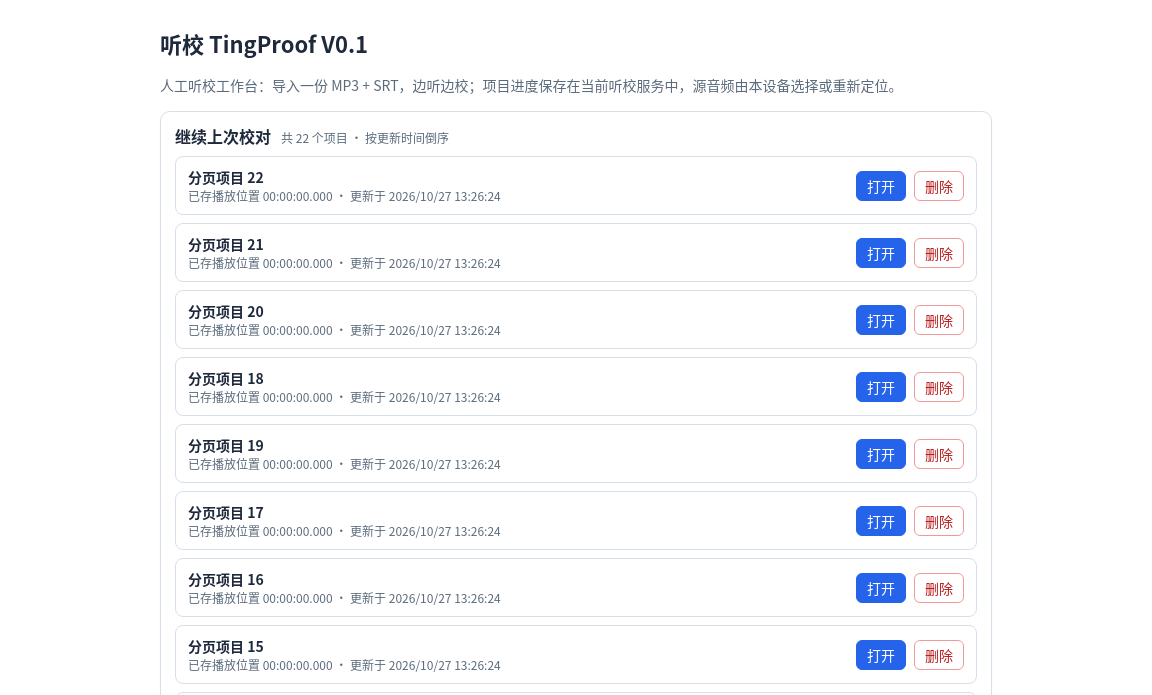
Test: ImportScreen 删除历史记录（AC-066） › 超过 20 条的分页边界：删除后剩余计数正确、不为负、无幽灵目标；加载更多后不重复
Note: 删除一个可见条目（最新的 22 号）。
Click the button with aria-label "删除 分页项目 22" at (939, 186), box x1=914 y1=170 x2=964 y2=200
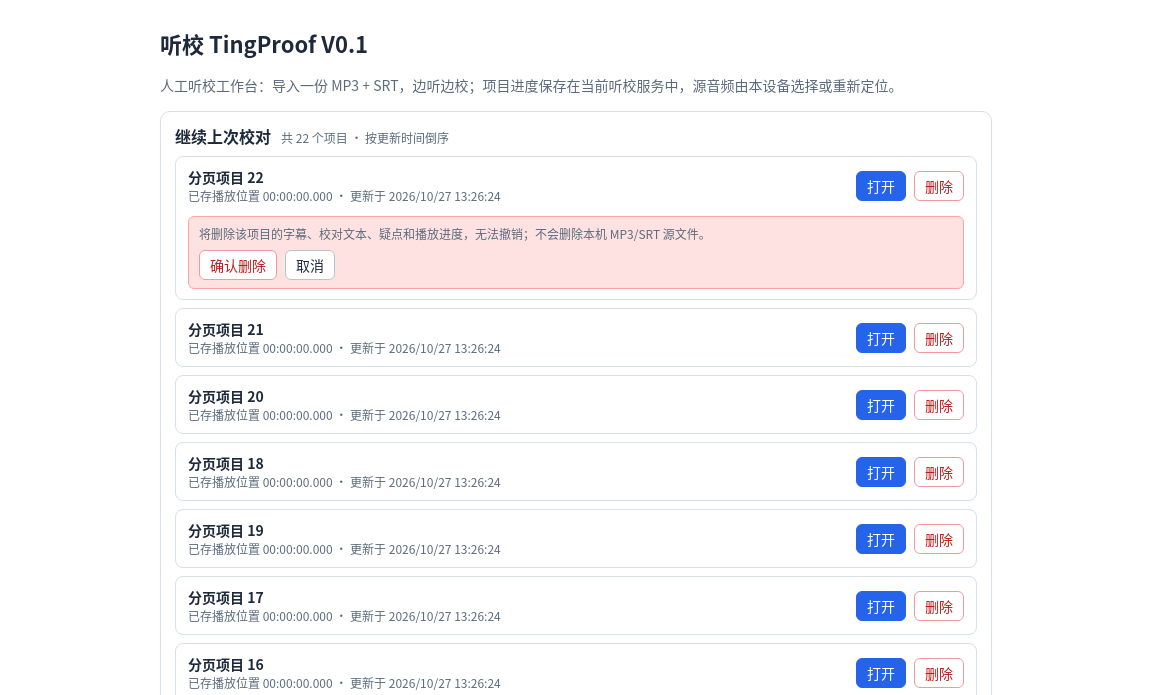
Click the button with aria-label "确认删除 分页项目 22" at (238, 265), box x1=199 y1=250 x2=277 y2=280
(page scrolled)
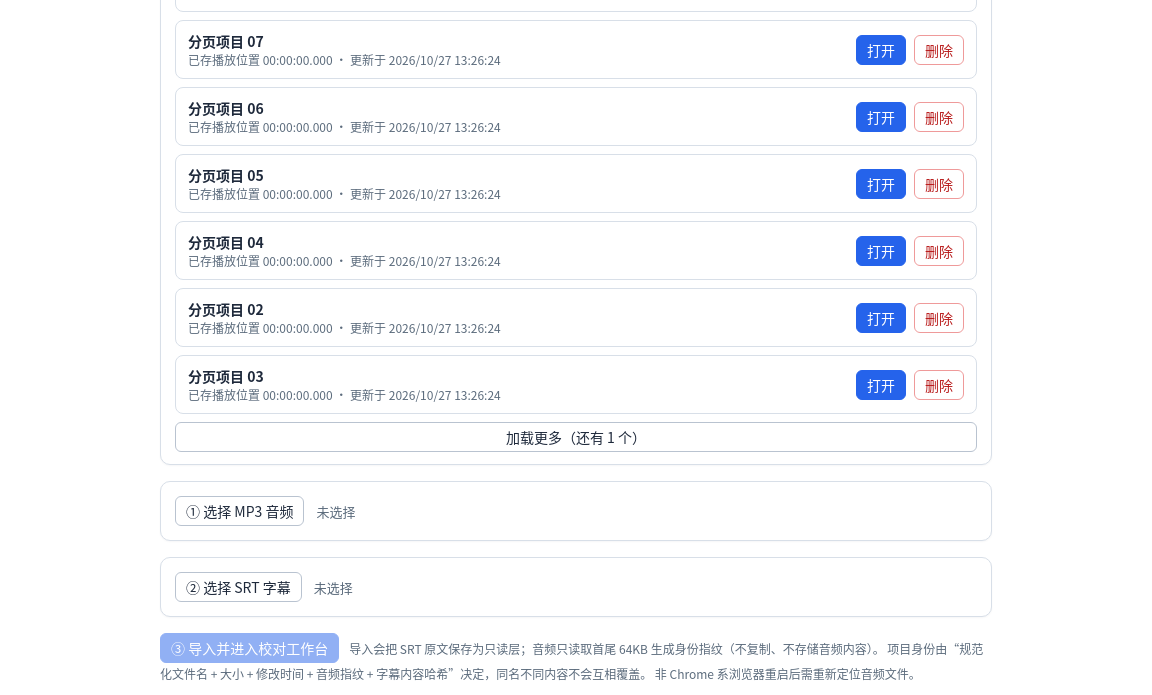
Expected: the button "加载更多（还有 1 个）" is shown
Click the button "加载更多（还有 1 个）" at (576, 437), box x1=175 y1=422 x2=977 y2=452
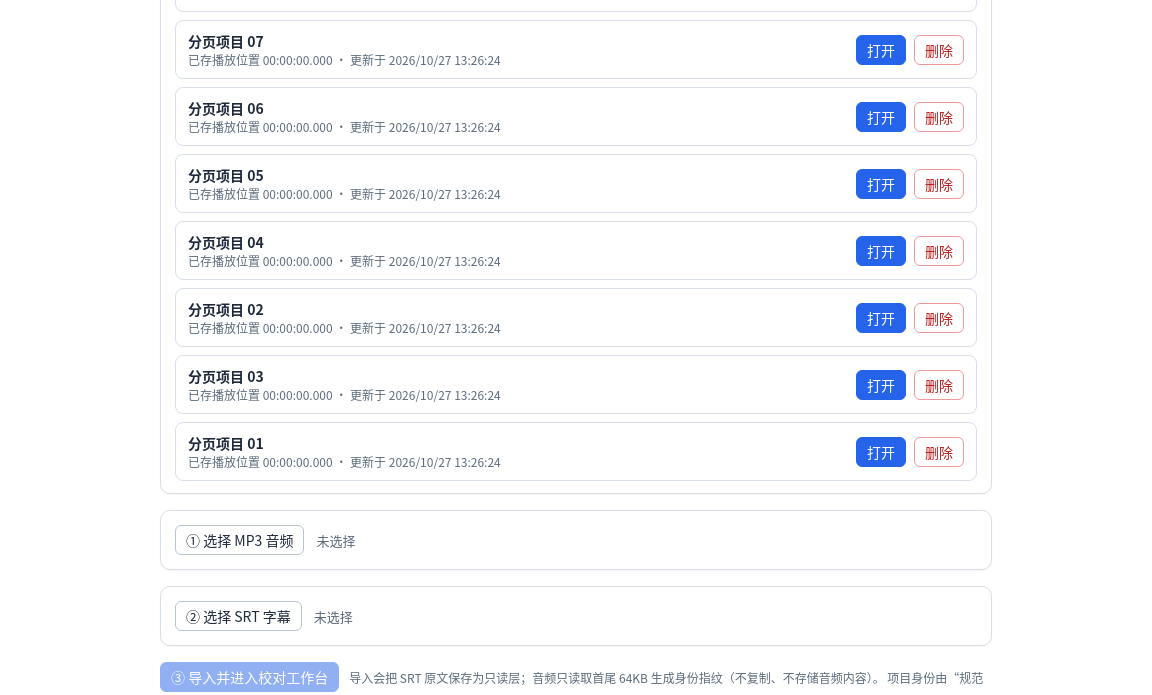
Expected: the button "加载更多" is gone
